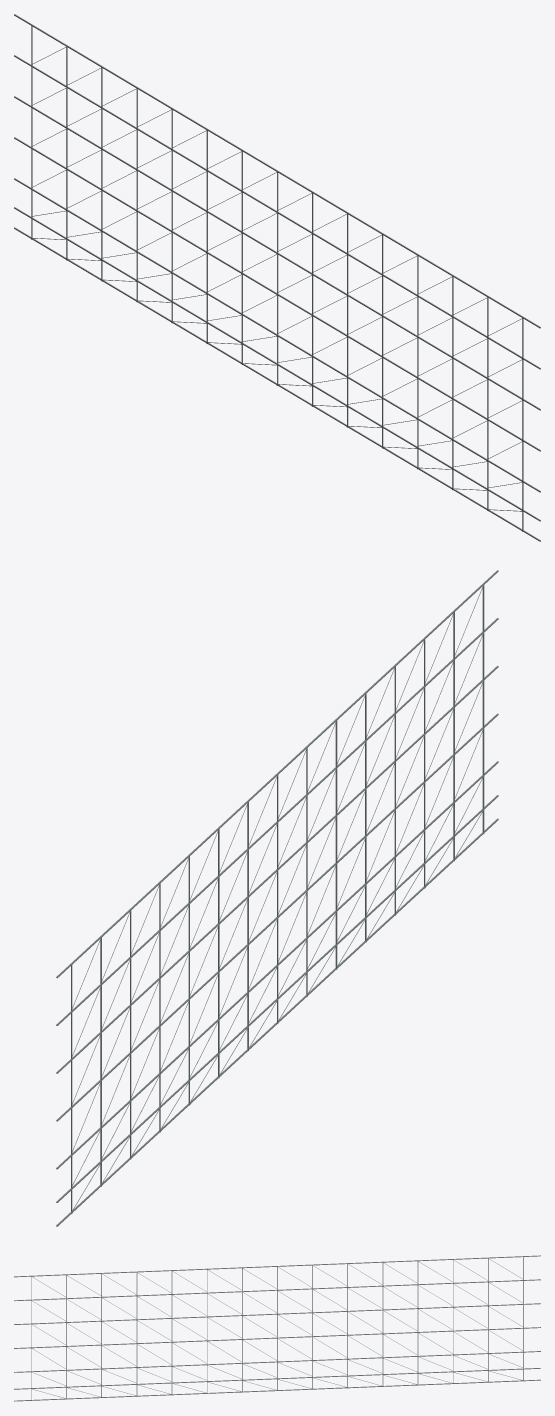
File: G7_MiddleExterior_E04_r001.glb
3 renders of one model, top to bottom at view 1: azimuth 30°, elevation 25°; view 2: azimuth 150°, elevation 25°; view 3: azimuth 270°, elevation 25°, orthographic. The views are drawn at different scales.
Visible parts, largest first — view 1: G7_MiddleExterior_E04_frame; view 2: G7_MiddleExterior_E04_frame; view 3: G7_MiddleExterior_E04_frame.
Boxes of the visible parts, box(x1,y1,x2,y2) form: G7_MiddleExterior_E04_frame: box(14, 14, 540, 541); G7_MiddleExterior_E04_frame: box(56, 570, 498, 1226); G7_MiddleExterior_E04_frame: box(14, 1255, 540, 1401).
Size of the model in its own units: 16.21 by 44.5 by 170.
Materials: 2 (2 with a texture image).
